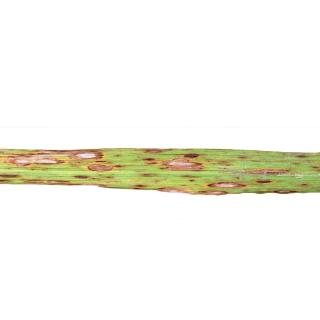Blast: (0, 169, 78, 189), (144, 152, 208, 175), (136, 178, 207, 196), (247, 164, 296, 189), (8, 152, 60, 170), (63, 145, 111, 162), (210, 175, 244, 192)
